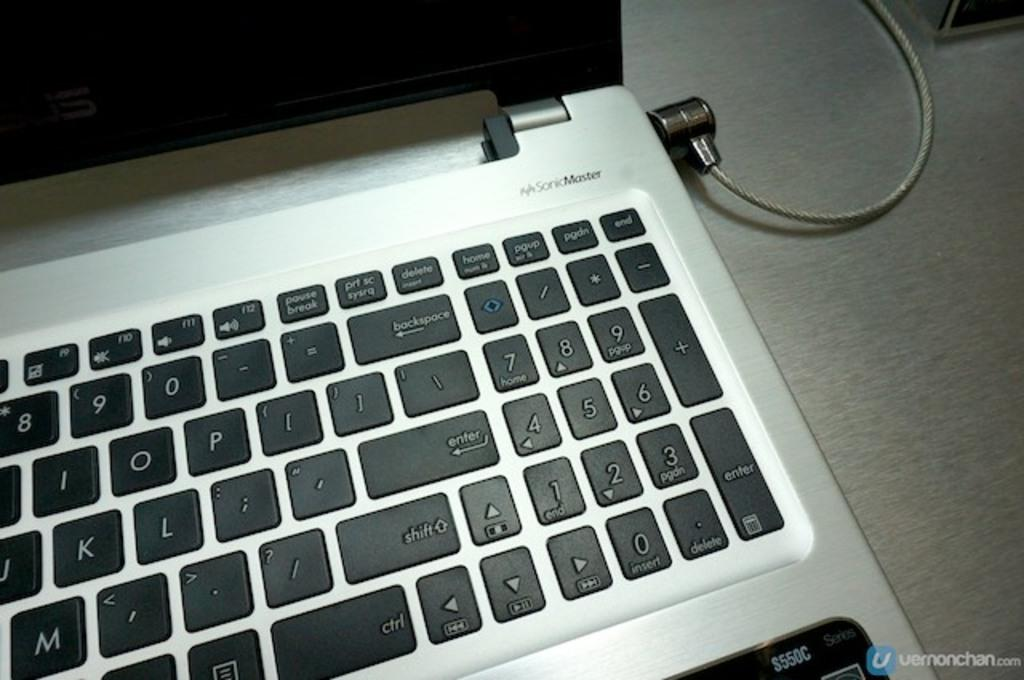Computer-keyboard: (0, 203, 792, 678)
